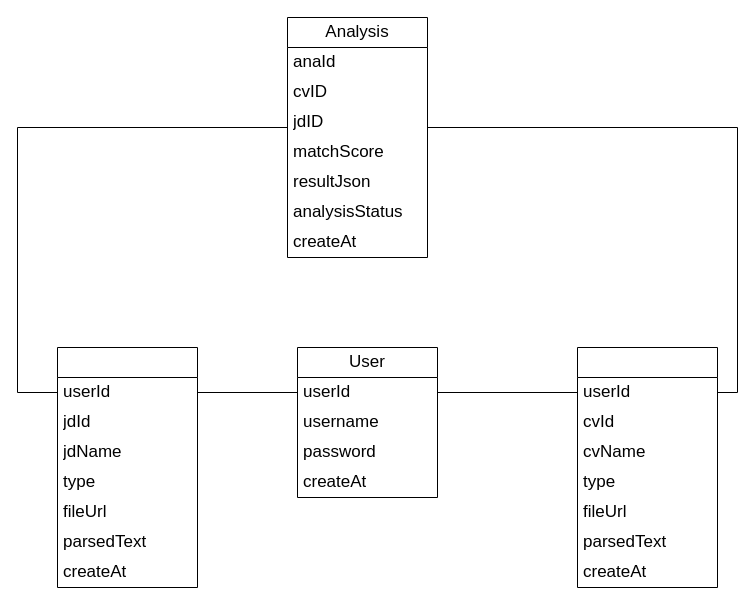
Some shapes in this 756 by 605 pixel diagram are drawn without their labels. Here are the shapes that lost their labels. From the top down, the box of each, then its label:
(56, 346, 198, 588): JobDescription
(576, 346, 718, 588): Resume
